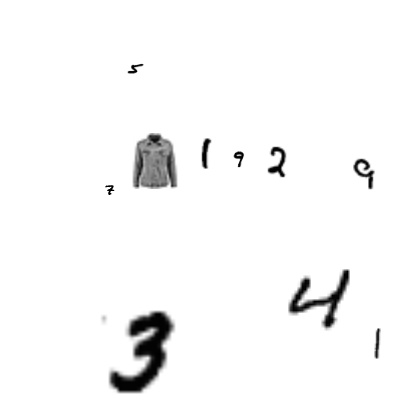1: (355, 321, 397, 363), (184, 131, 226, 173)
2: (256, 141, 298, 183)
3: (86, 292, 198, 404)
4: (277, 255, 361, 339)
5: (123, 57, 145, 79)
7: (103, 182, 117, 196)
9: (343, 150, 385, 192), (228, 146, 250, 168)
Coat: (127, 133, 183, 189)
